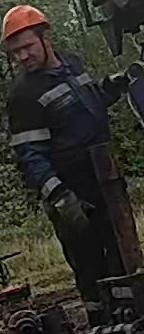gloves: (47, 183, 95, 233)
helmet: (0, 4, 50, 50)
vest: (6, 56, 109, 189)
